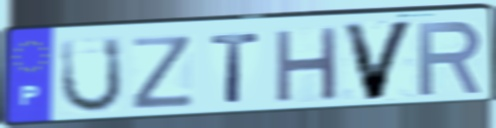H: (273, 24, 341, 106)
R: (415, 18, 486, 99)
T: (207, 30, 263, 106)
U: (58, 35, 125, 117)
V: (339, 18, 419, 104)
Z: (129, 33, 198, 112)
